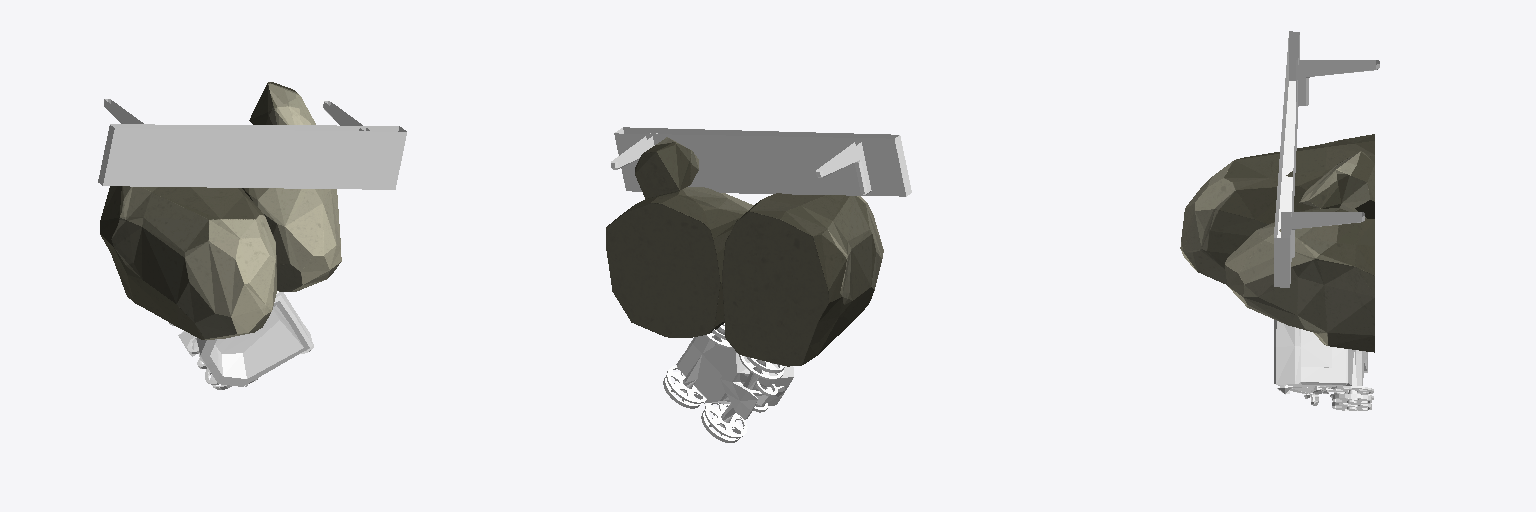
The picture shows the model from 3 angles: view 1: azimuth 30°, elevation 25°; view 2: azimuth 150°, elevation 25°; view 3: azimuth 270°, elevation 25°; orthographic projection.
Visible parts, largest first — view 1: Object.2, Object.8, Object.1, Object.6, Object.5, Object.7; view 2: Object.2, Object.1, Object.8, Object.6, Object.5, Object.7; view 3: Object.1, Object.2, Object.6, Object.8, Object.5, Object.7.
Part boxes in pixels (x1,y1,x2,y2): Object.2: (100, 186, 276, 339); Object.8: (98, 124, 406, 189); Object.1: (242, 188, 341, 291); Object.6: (169, 291, 313, 389); Object.5: (249, 82, 315, 124); Object.7: (104, 99, 369, 130); Object.2: (722, 193, 883, 366); Object.1: (606, 187, 753, 337); Object.8: (614, 127, 911, 196); Object.6: (663, 323, 793, 442); Object.5: (635, 137, 698, 198); Object.7: (611, 133, 871, 194); Object.1: (1225, 208, 1374, 352); Object.2: (1180, 134, 1374, 284); Object.6: (1274, 320, 1373, 410); Object.8: (1274, 31, 1299, 287); Object.5: (1299, 151, 1374, 218); Object.7: (1281, 60, 1379, 257).
Bounding box in the file's own units: 53.27 × 54.07 × 30.93.
Materials: 4 (1 with a texture image).